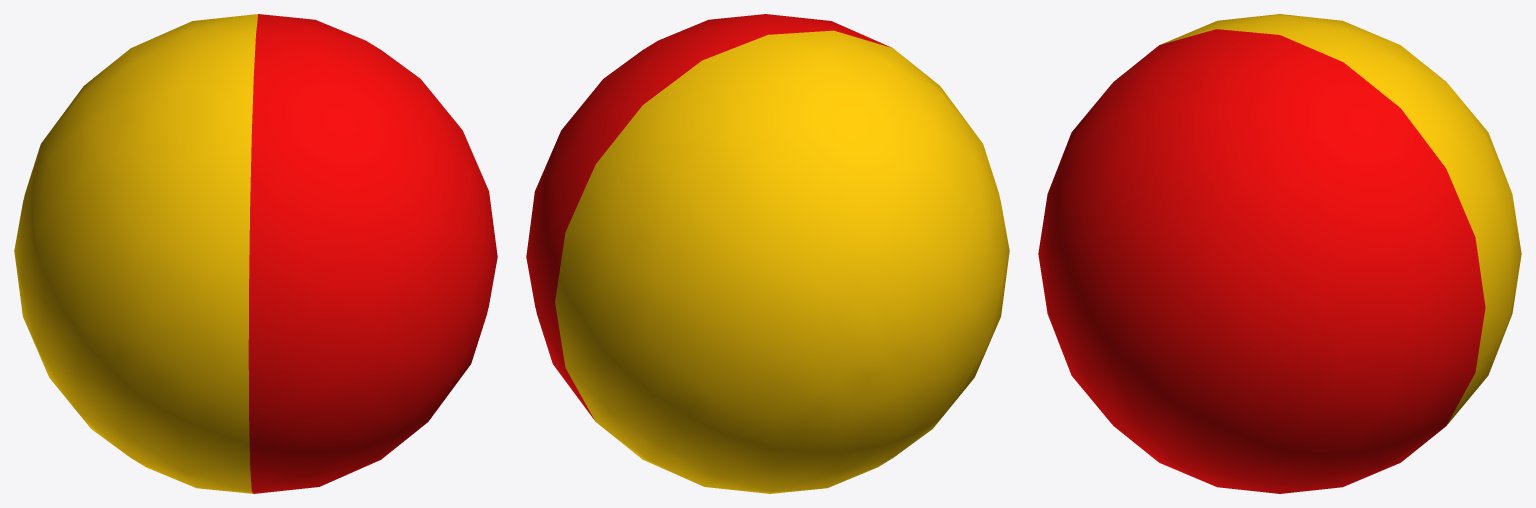
File: ball.fbx
3 views of the same model, side by side, from view 1: azimuth 30°, elevation 25°; view 2: azimuth 150°, elevation 25°; view 3: azimuth 270°, elevation 25° (orthographic).
Visible parts, largest first — view 1: ball; view 2: ball; view 3: ball.
Part boxes in pixels (x1,y1,x2,y2): ball: (14, 14, 497, 493); ball: (526, 14, 1009, 493); ball: (1038, 14, 1521, 493).
Size of the model in its own units: 100 by 100 by 100.
